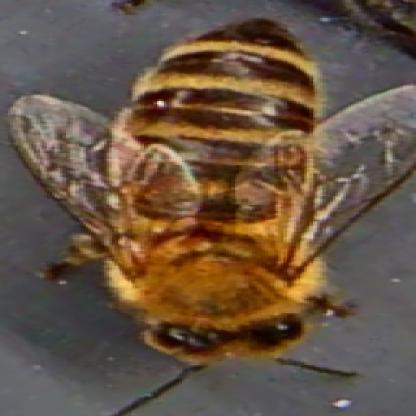bee: (126, 18, 315, 371)
